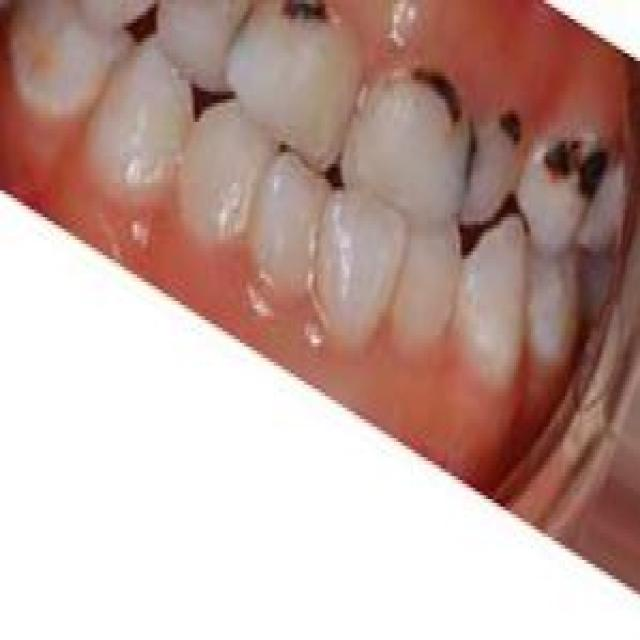caries: (532, 108, 610, 212), (412, 38, 474, 152), (493, 88, 532, 158), (270, 0, 332, 38)
